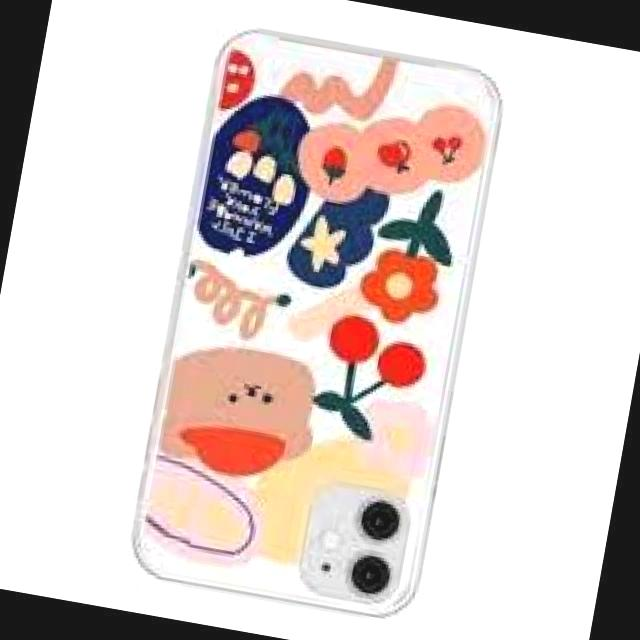lens: (312, 494, 416, 596)
phone: (122, 24, 515, 625)
